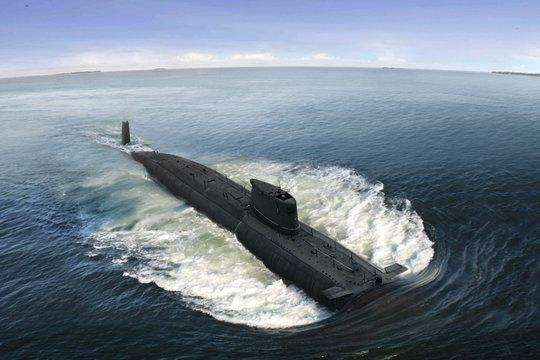Submarine: (49, 67, 414, 360)
